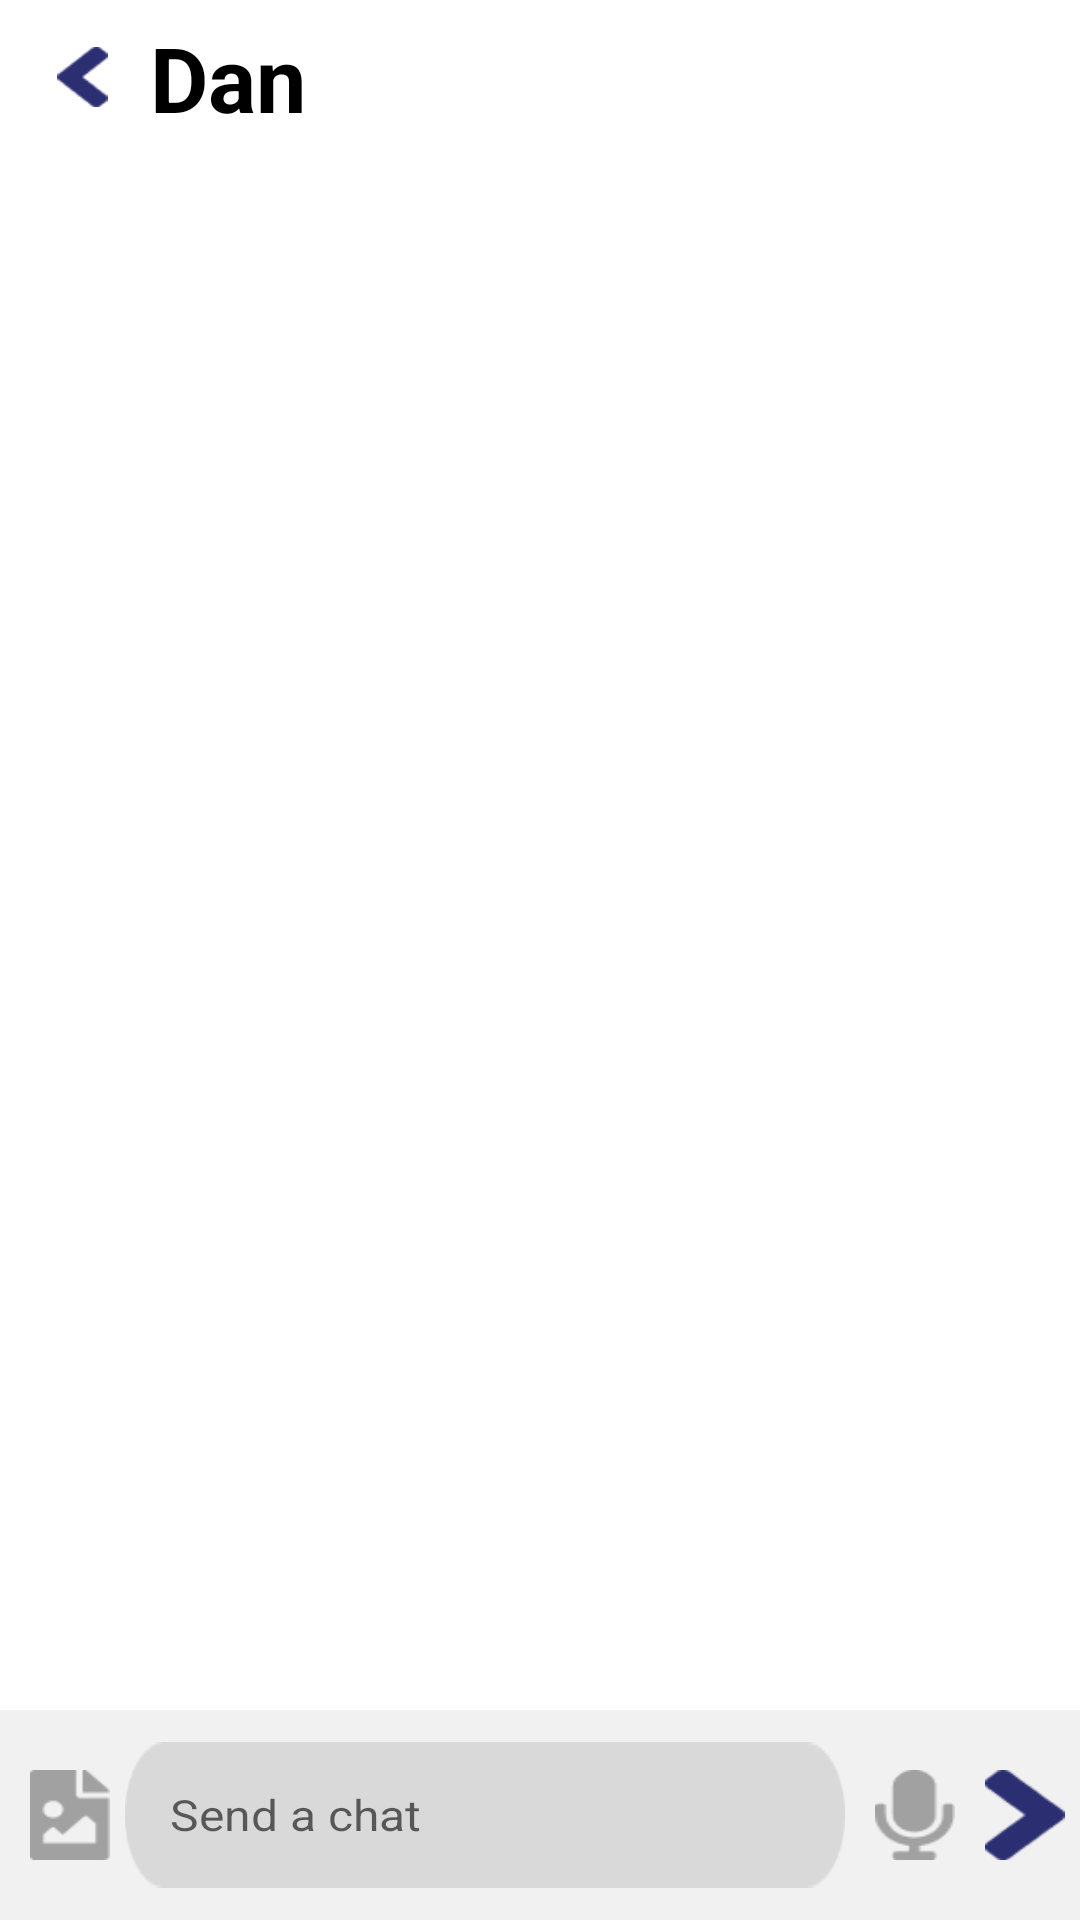

Icons on this 1080 × 1920 Android screen, each with its box as bbox=[x1, y1, x2, y2]:
gallery: bbox=[30, 1770, 110, 1860]
microphone: bbox=[875, 1770, 955, 1860]
